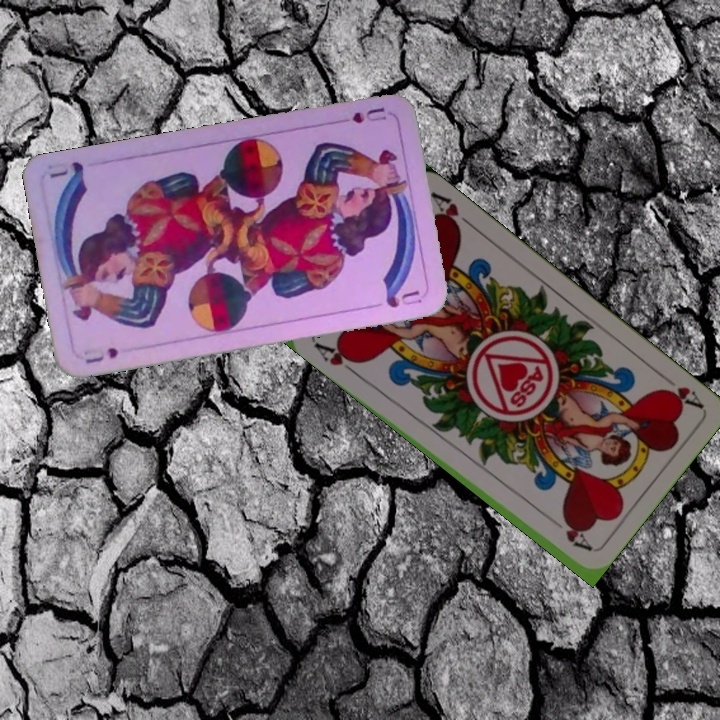HA: (309, 336, 364, 377), (653, 368, 705, 411)
SU: (332, 103, 389, 126), (81, 343, 121, 366)
